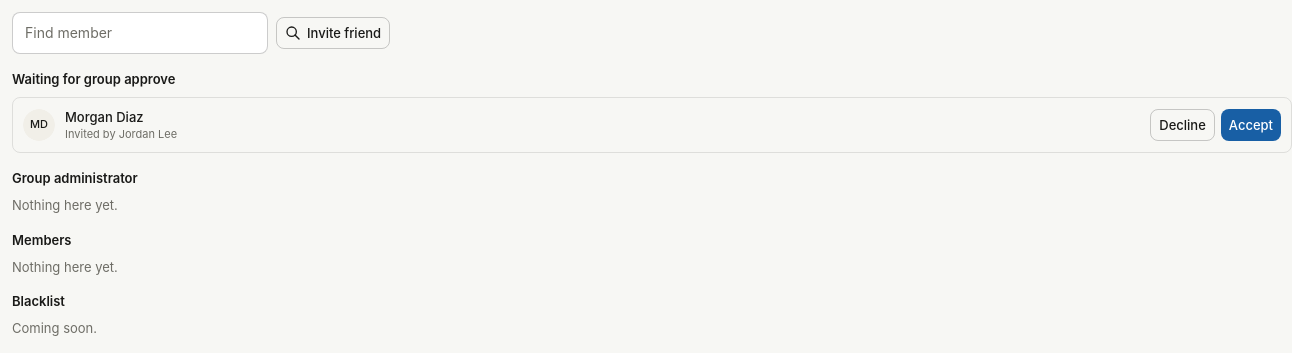
Test: GroupMembersTab › "find member" filters an invitation row by the invitee, not the inviter (GRP-7)
Type "morgan" into the field labelled "Find member" at (140, 33), box [12,12,268,54]
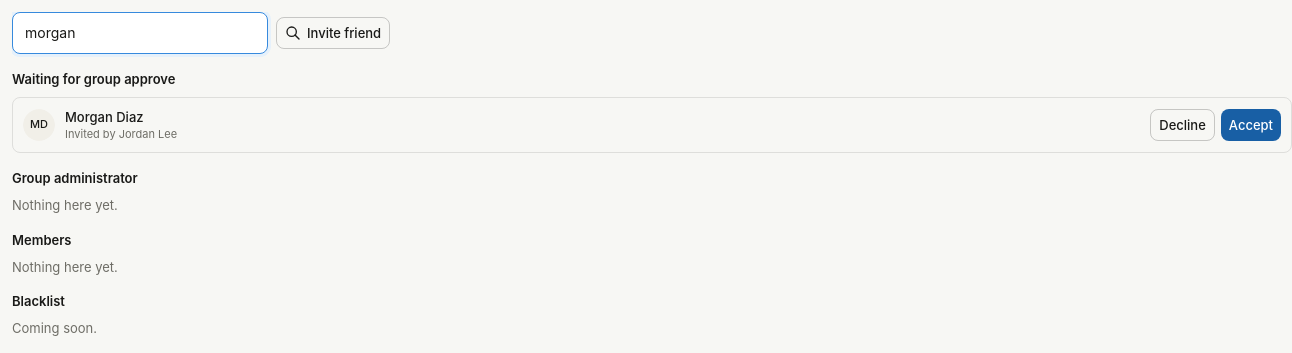
Expected: the text "Morgan Diaz" is shown, [65,109,144,125]
Replace the text in the field named "Find member" with "sam" at (140, 33), box [12,12,268,54]
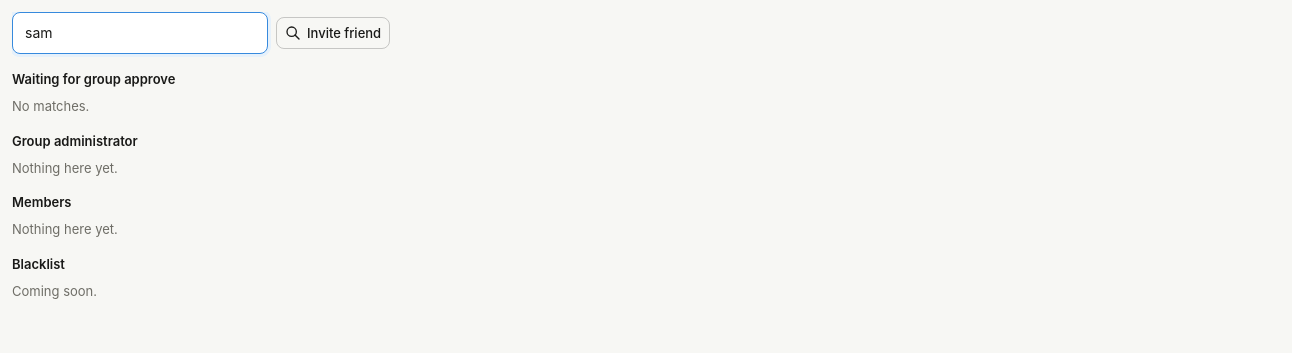
Result: the text "No matches." is shown at [12,98,89,114]
